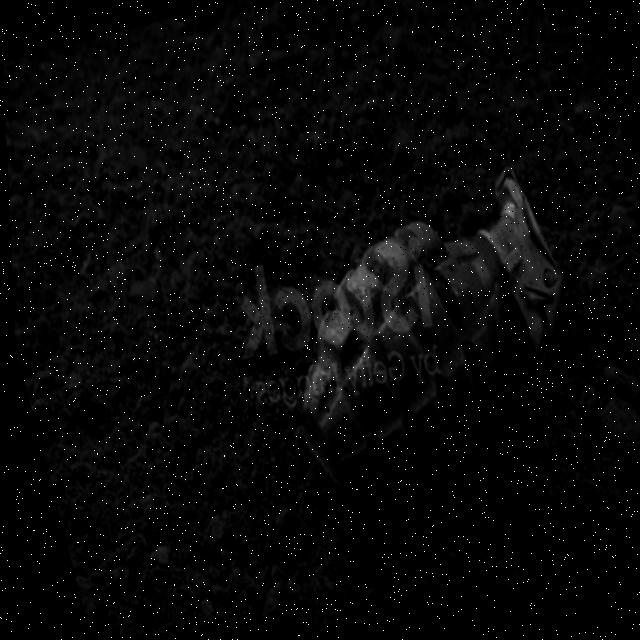grenade: (225, 131, 627, 586)
